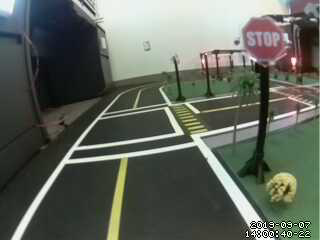Stop_Sign: (234, 15, 292, 71)
